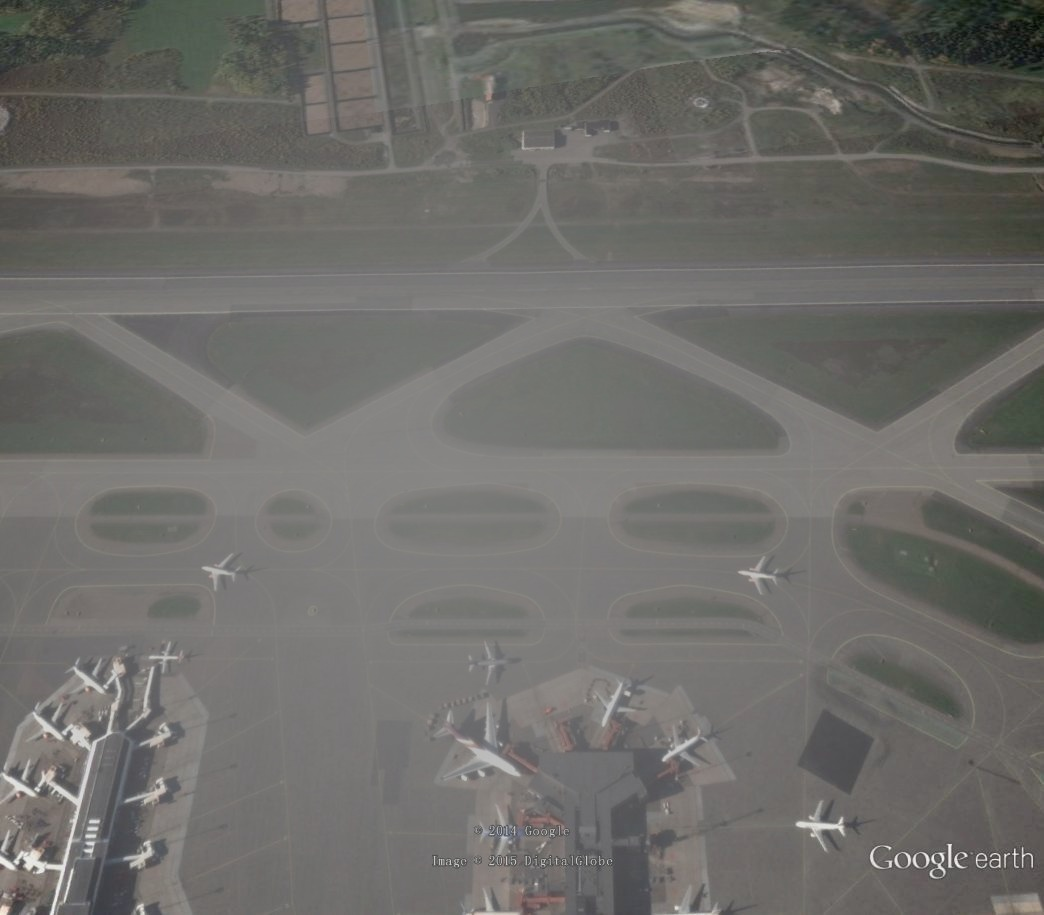aircraft: (427, 697, 526, 789), (472, 801, 540, 867), (792, 796, 852, 859), (657, 720, 720, 777), (589, 678, 649, 730), (18, 694, 73, 750), (462, 637, 520, 690), (736, 552, 784, 600), (60, 654, 111, 699), (201, 549, 246, 597), (0, 763, 45, 808), (147, 640, 190, 678)
